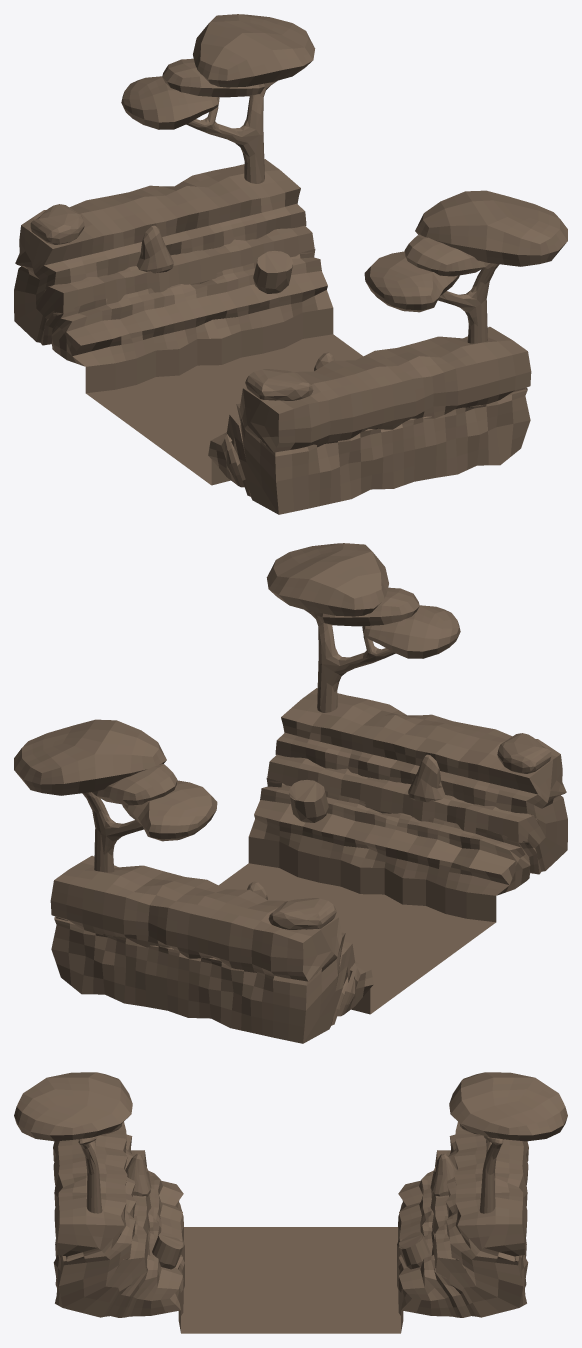
The model's file is browravine2.fbx.
3 renders of one model, top to bottom at view 1: azimuth 30°, elevation 25°; view 2: azimuth 150°, elevation 25°; view 3: azimuth 270°, elevation 25°, orthographic. The views are drawn at different scales.
Visible parts, largest first — view 1: browravine2; view 2: browravine2; view 3: browravine2.
Boxes of the visible parts, box(x1,y1,x2,y2) form: browravine2: box(14, 14, 567, 514); browravine2: box(14, 543, 567, 1043); browravine2: box(14, 1072, 567, 1333).
Bounding box in the file's own units: 1562 × 1392 × 2899.
